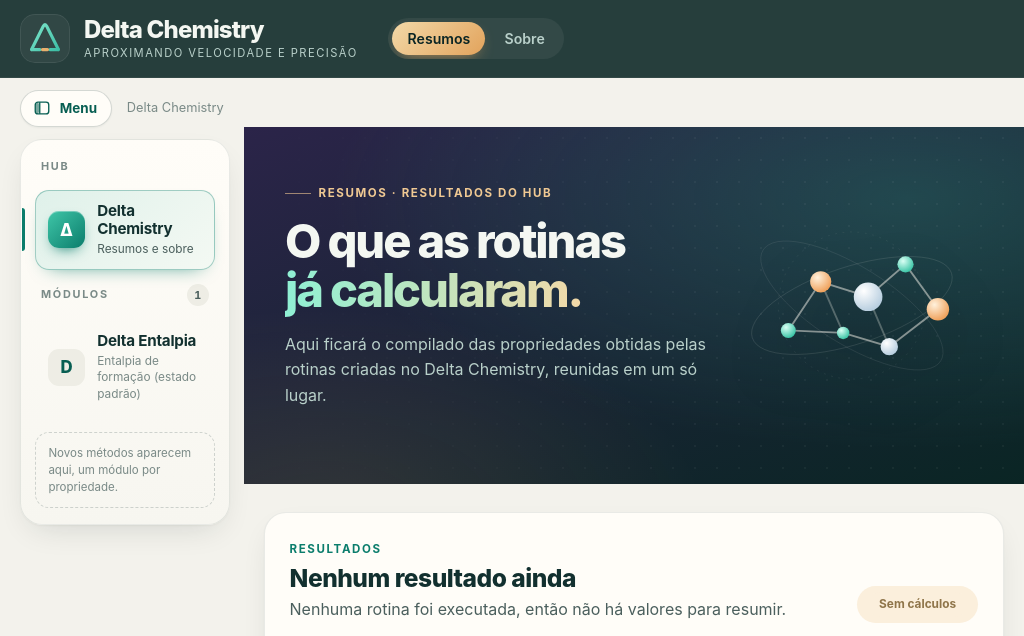
Test: aba experimental mantém contagens se a comparação falha
This screenshot has width=1024, height=636.
Click the button "D Delta Entalpia Entalpia de formação (estado padrão)" at (125, 367), box x1=35 y1=320 x2=215 y2=415
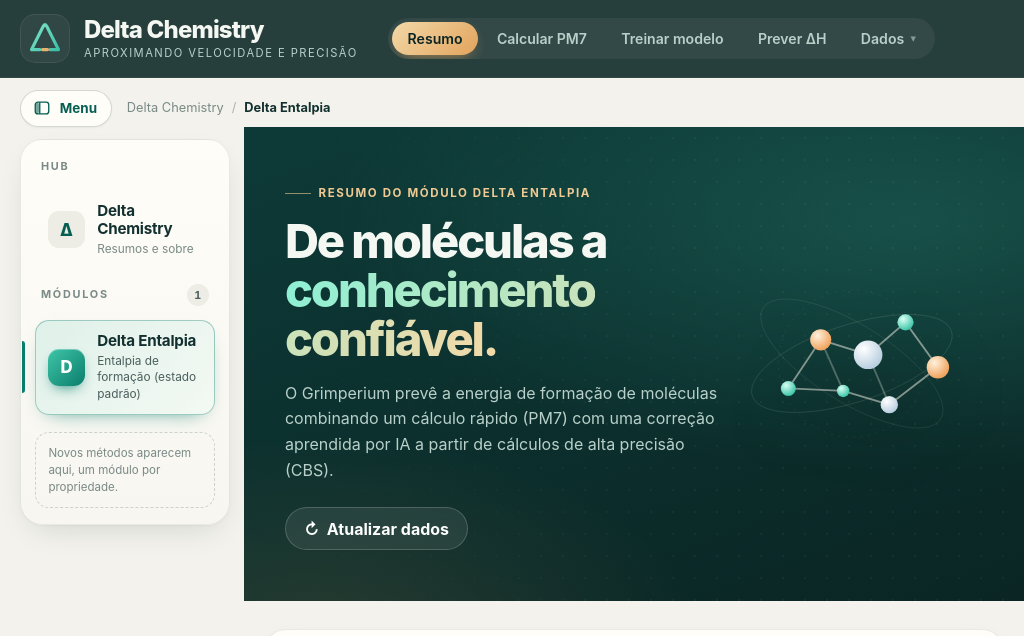
Click the button "Dados ▾" at (888, 38), box x1=846 y1=22 x2=931 y2=55
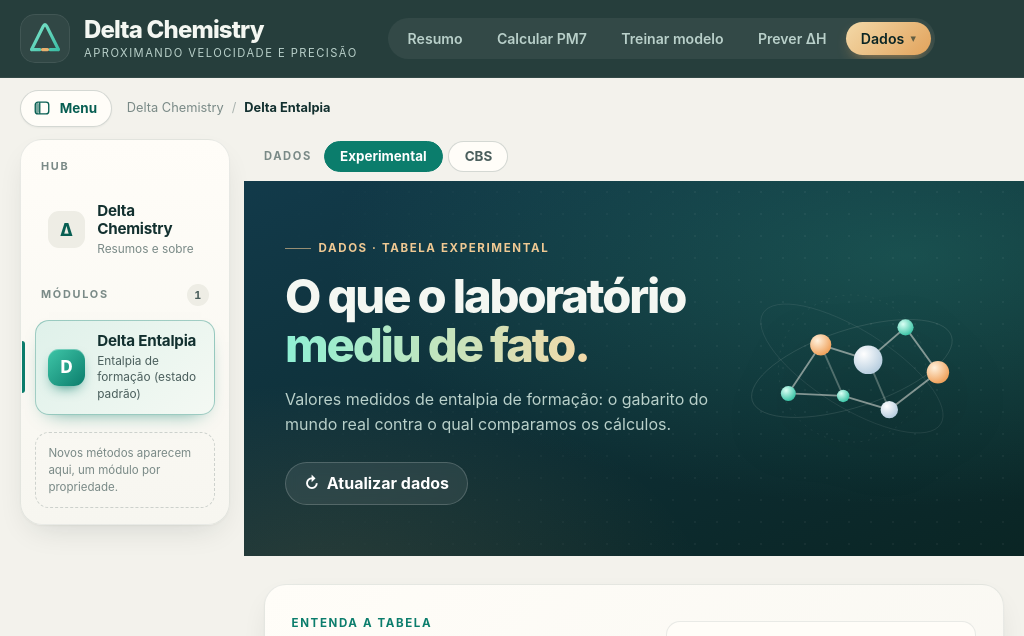
Click the button "Experimental" at (383, 156), box x1=324 y1=141 x2=443 y2=172
(page scrolled)
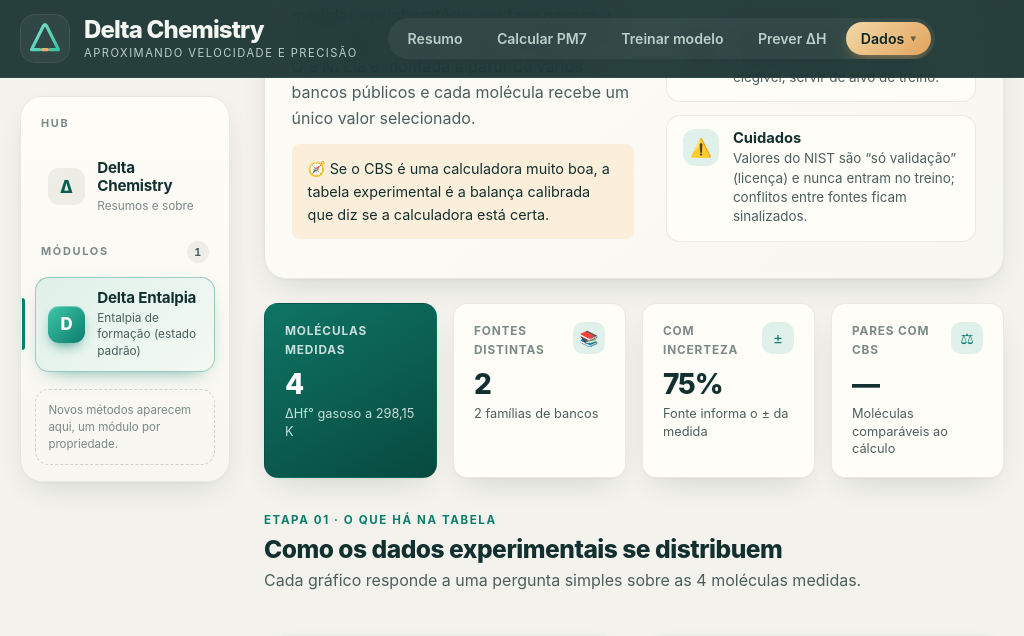
Expected: the text "4" is shown, x1=285 y1=367 x2=303 y2=401
